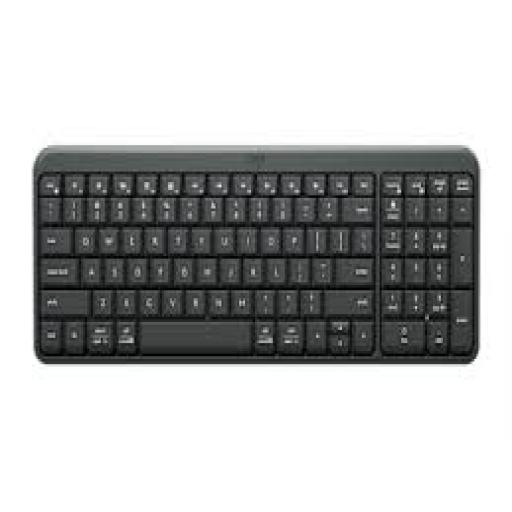KEYBOARD-2: (34, 145, 478, 362)
